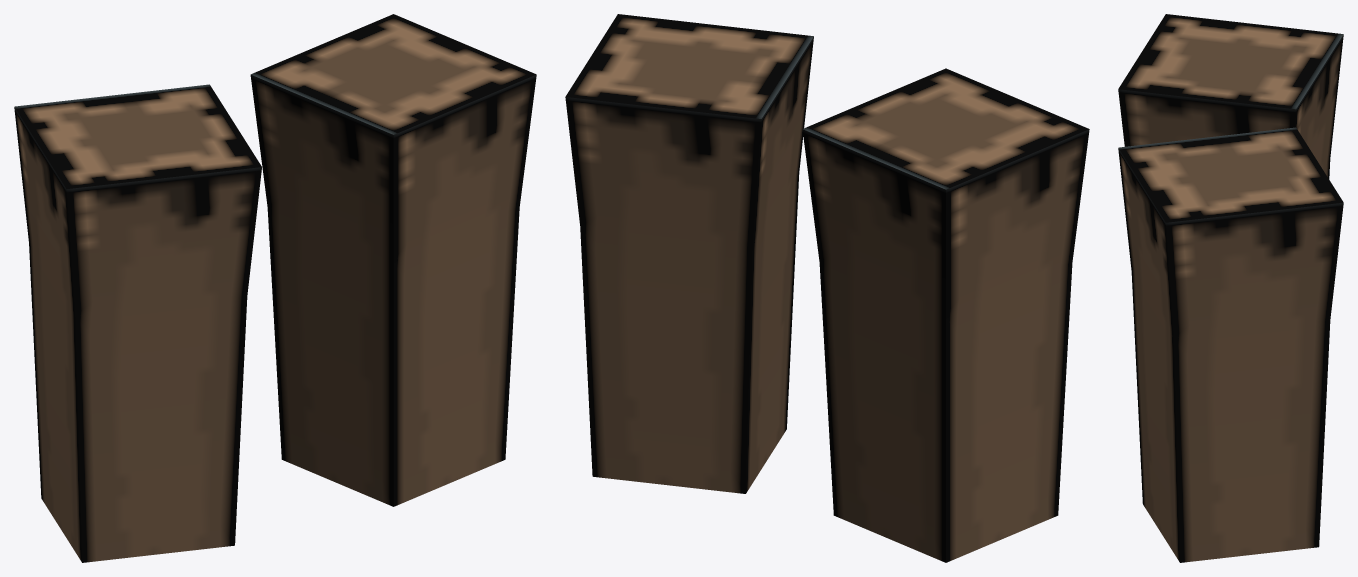
File: deco_winter_poles.FBX
3 views of the same model, side by side, from view 1: azimuth 30°, elevation 25°; view 2: azimuth 150°, elevation 25°; view 3: azimuth 270°, elevation 25° (orthographic). The views are drawn at different scales.
Visible parts, largest first — view 1: deco_winter_poles; view 2: deco_winter_poles; view 3: deco_winter_poles.
Part boxes in pixels (<box>): deco_winter_poles: <box>14,14,536,562</box>; deco_winter_poles: <box>565,14,1089,562</box>; deco_winter_poles: <box>1118,14,1343,562</box>.
Size of the model in its own units: 1.85 by 1.45 by 0.8459.
Materials: 1 (1 with a texture image).
